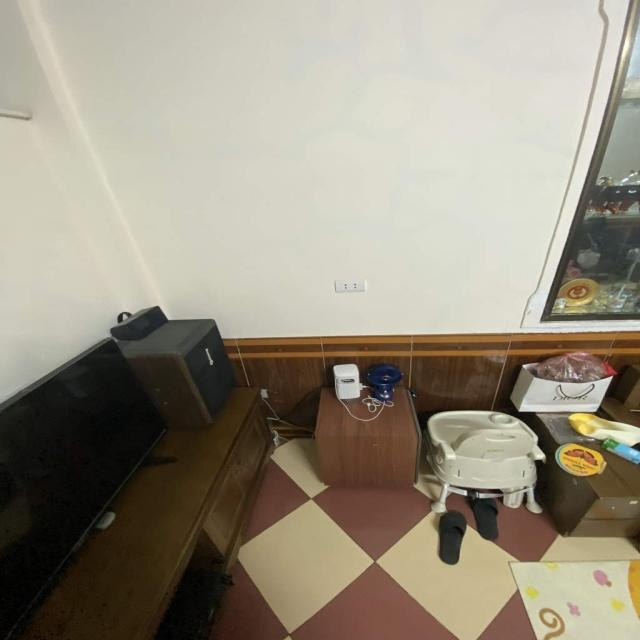outlet: (334, 279, 366, 293)
